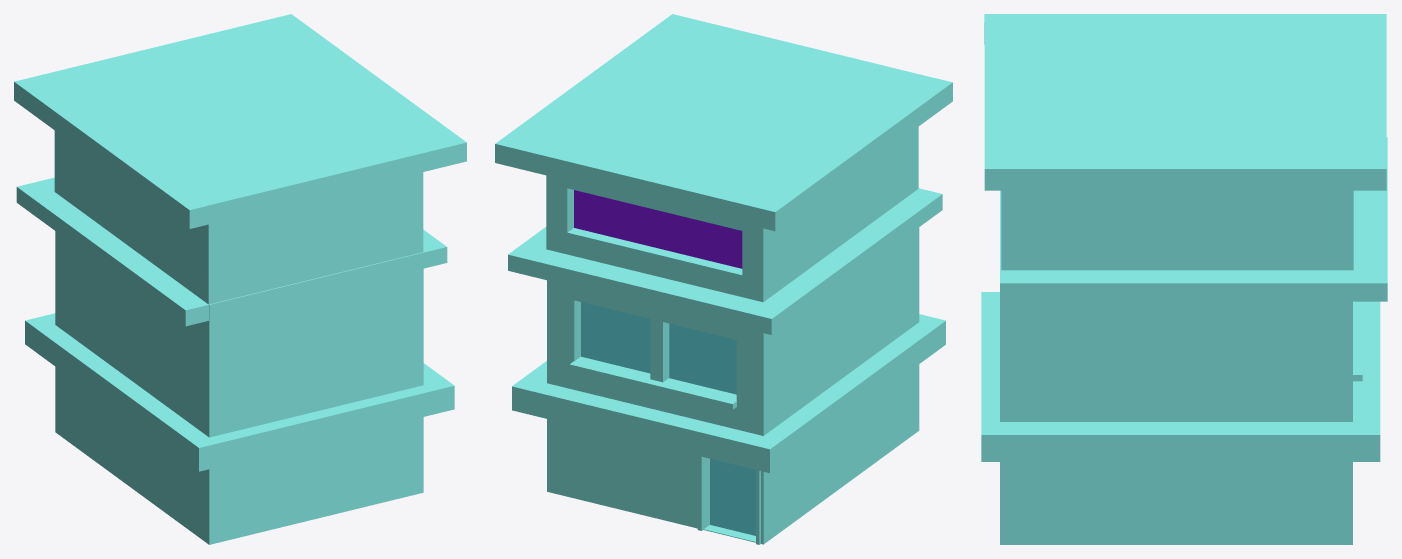
File: wafla5.fbx
3 renders of one model, left to right at view 1: azimuth 30°, elevation 25°; view 2: azimuth 150°, elevation 25°; view 3: azimuth 270°, elevation 25°, orthographic. The views are drawn at different scales.
Visible parts, largest first — view 1: Куб.001; view 2: Куб.001, Куб.004, Куб.002, Куб.005; view 3: Куб.001.
Part boxes in pixels (left/top/right/bottom): Куб.001: left=14, top=14, right=466, bottom=544; Куб.001: left=495, top=14, right=952, bottom=544; Куб.004: left=581, top=302, right=736, bottom=394; Куб.002: left=574, top=190, right=742, bottom=268; Куб.005: left=710, top=458, right=755, bottom=535; Куб.001: left=981, top=14, right=1387, bottom=544.
Bounding box in the file's own units: 49.05 × 58.5 × 54.35.
